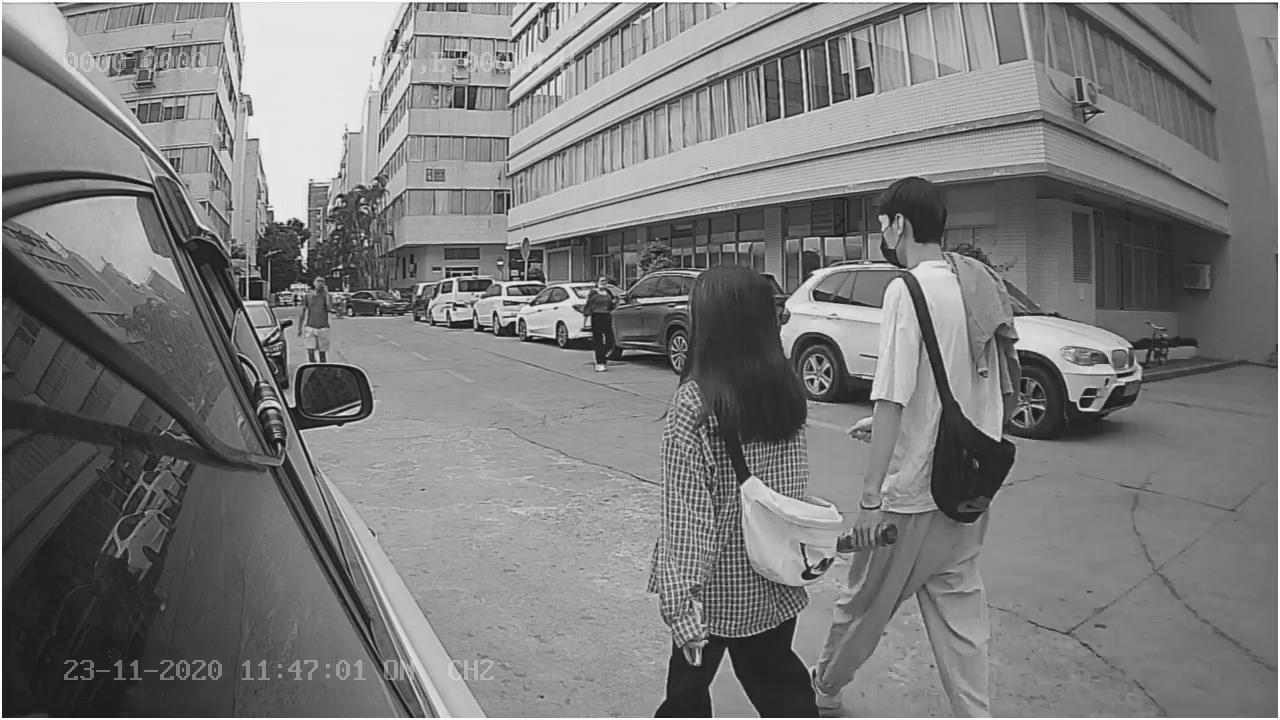person: (642, 247, 823, 599), (850, 162, 1026, 503)
